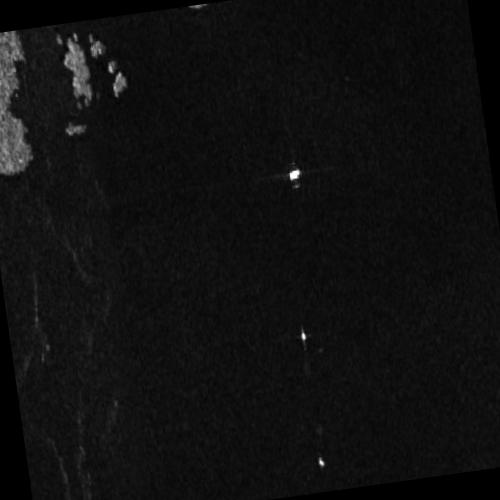ship: (288, 168, 302, 183), (300, 329, 308, 345), (318, 457, 327, 470)
